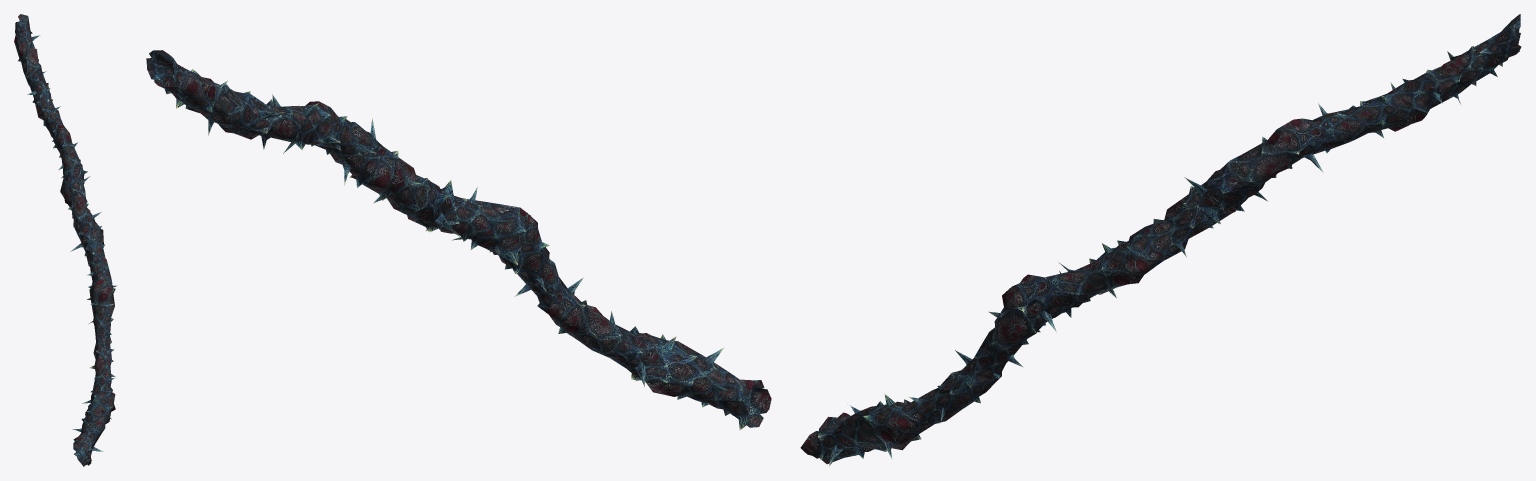
File: 02_Makaijyua_07.fbx
3 renders of one model, left to right at view 1: azimuth 30°, elevation 25°; view 2: azimuth 150°, elevation 25°; view 3: azimuth 270°, elevation 25°, orthographic. The views are drawn at different scales.
Parts seen in each view (by area): view 1: LODGroup_3_MainMesh_1_SubMesh_1; view 2: LODGroup_3_MainMesh_1_SubMesh_1; view 3: LODGroup_3_MainMesh_1_SubMesh_1.
Boxes of the visible parts, x1,y1,x2,y2 form: LODGroup_3_MainMesh_1_SubMesh_1: (14, 14, 117, 466); LODGroup_3_MainMesh_1_SubMesh_1: (146, 50, 771, 430); LODGroup_3_MainMesh_1_SubMesh_1: (800, 14, 1521, 466).
Bounding box in the file's own units: 475 × 1020 × 1190.
